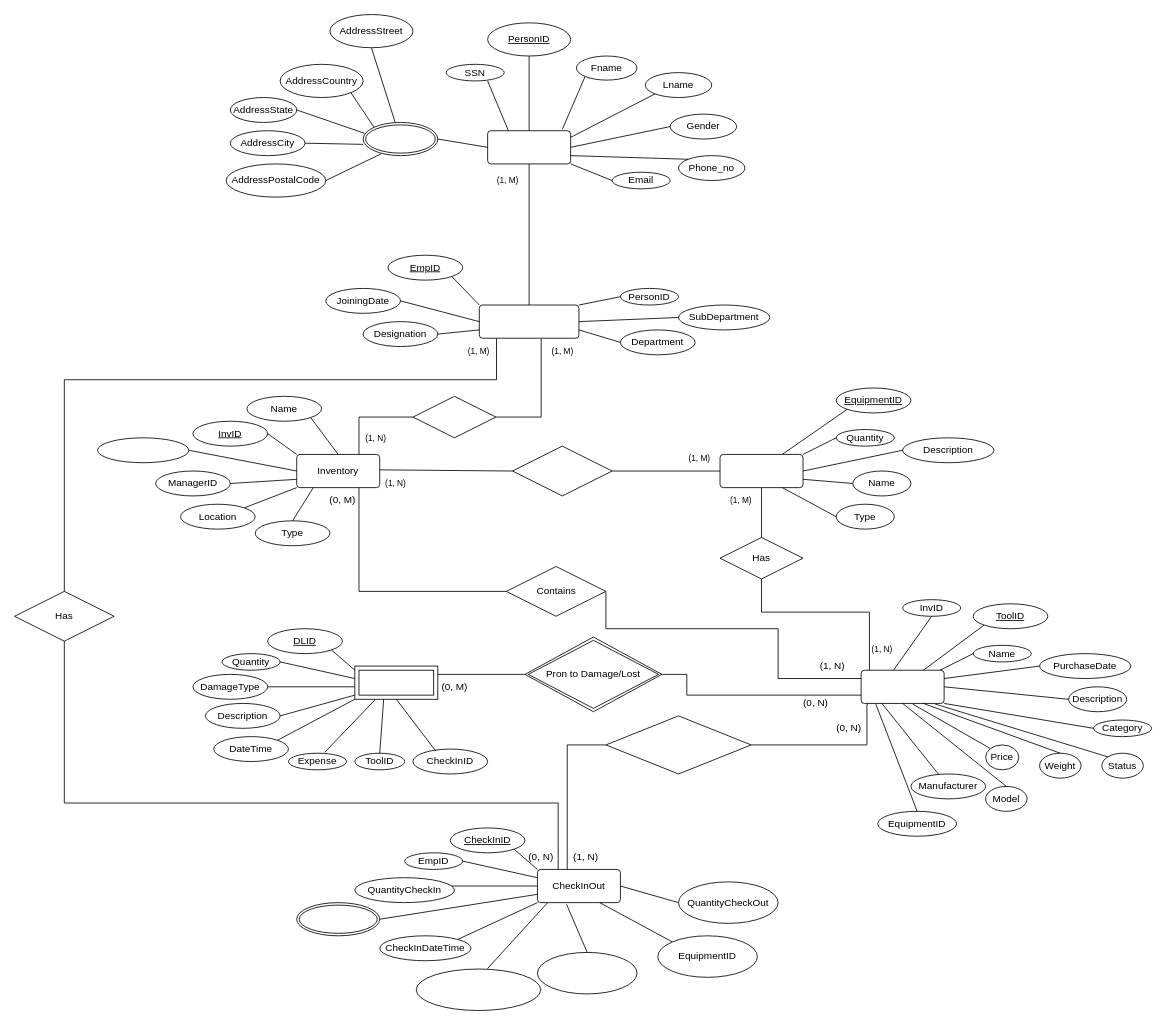
The diagram is 1166 pixels wide and 1025 high, and some of its shapes have lost their labels. Here are the shapes that lost their labels. From the top down, the centre of each, then its label:
At (x=400, y=139): "Address".
At (x=529, y=147): "Person".
At (x=528, y=321): "Employee".
At (x=454, y=416): "Manage".
At (x=143, y=450): "LastUpdatdDate".
At (x=562, y=470): "Store".
At (x=761, y=471): "Equipment".
At (x=396, y=682): "DamageLost".
At (x=902, y=686): "Tool".
At (x=678, y=744): "CheckIn/CheckOut".
At (x=338, y=919): "ToolIDs".
At (x=478, y=989): "CheckOutExpectedDate".
At (x=587, y=973): "CheckOutDateTime".
